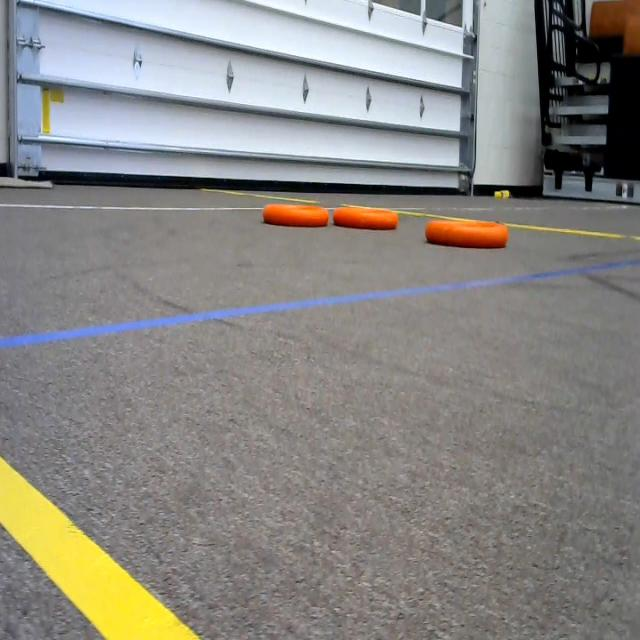note: (428, 208, 516, 254), (256, 188, 331, 237), (334, 196, 403, 238)
